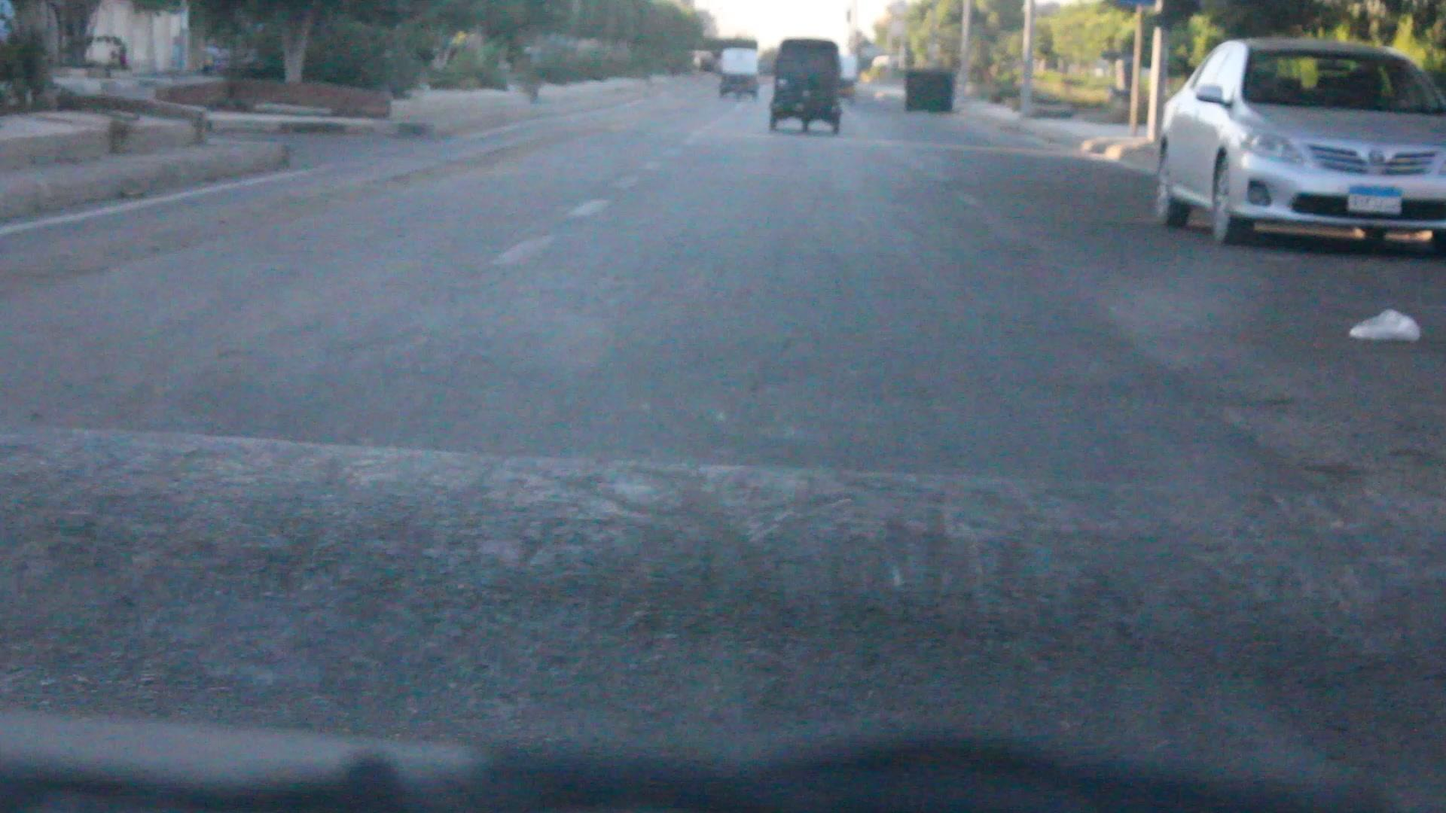Bump: (0, 422, 1445, 763)
